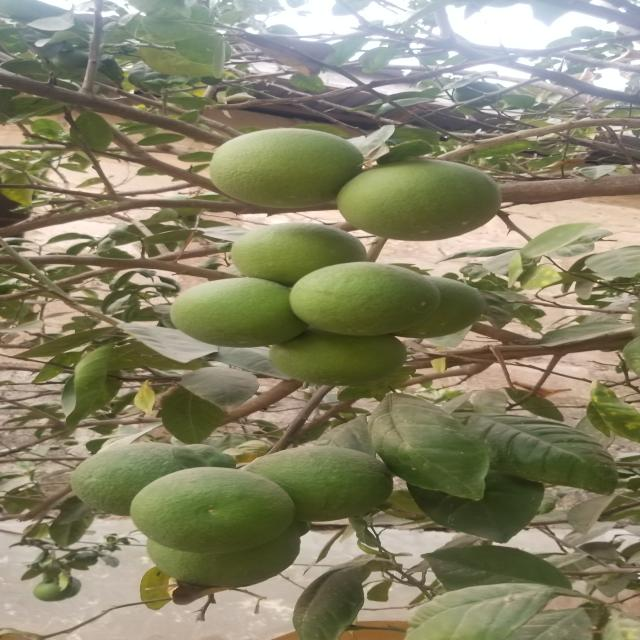Unripe: (98, 465, 330, 557), (186, 123, 372, 215), (327, 163, 519, 240), (114, 530, 320, 586), (287, 260, 418, 348), (166, 278, 316, 351), (206, 225, 398, 282), (65, 440, 199, 514), (398, 274, 509, 340)
